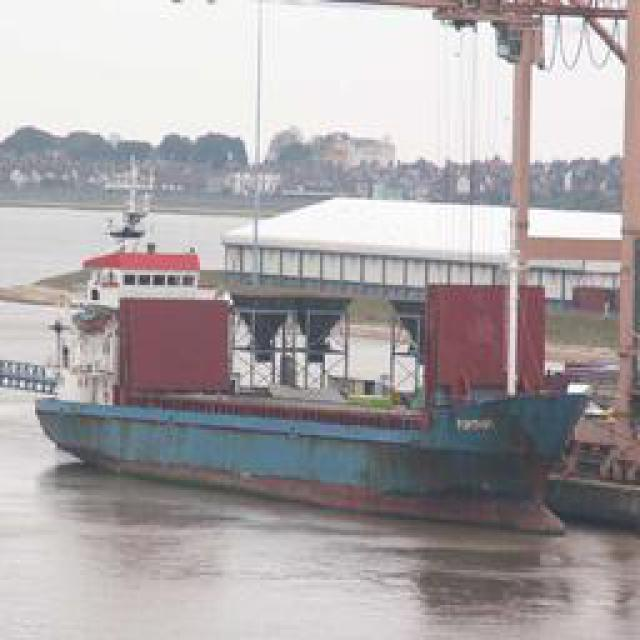Ship: (29, 201, 592, 541)
